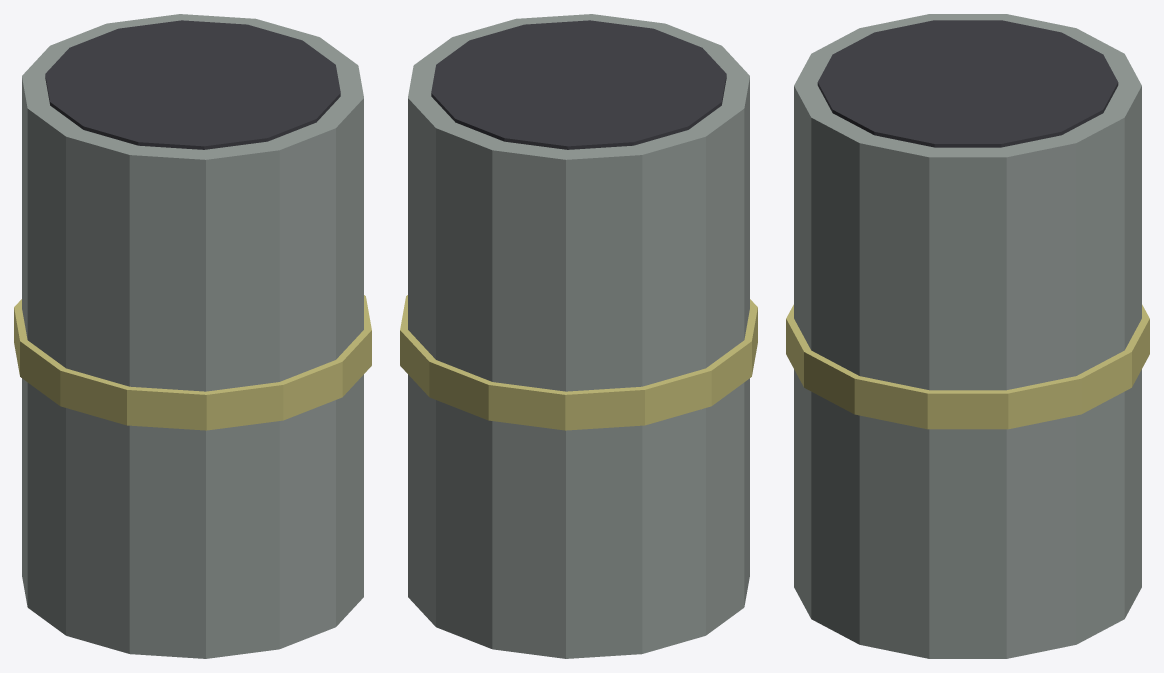
Rendered from dm_indoorbin.glb.
3 renders of one model, left to right at view 1: azimuth 30°, elevation 25°; view 2: azimuth 150°, elevation 25°; view 3: azimuth 270°, elevation 25°, orthographic.
Visible parts, largest first — view 1: dm_indoorbin; view 2: dm_indoorbin; view 3: dm_indoorbin.
Boxes of the visible parts, left/top/right/bottom form: dm_indoorbin: left=14, top=14, right=371, bottom=658; dm_indoorbin: left=400, top=14, right=757, bottom=658; dm_indoorbin: left=786, top=14, right=1149, bottom=658.
Size of the model in its own units: 0.4485 by 0.705 by 0.46.
